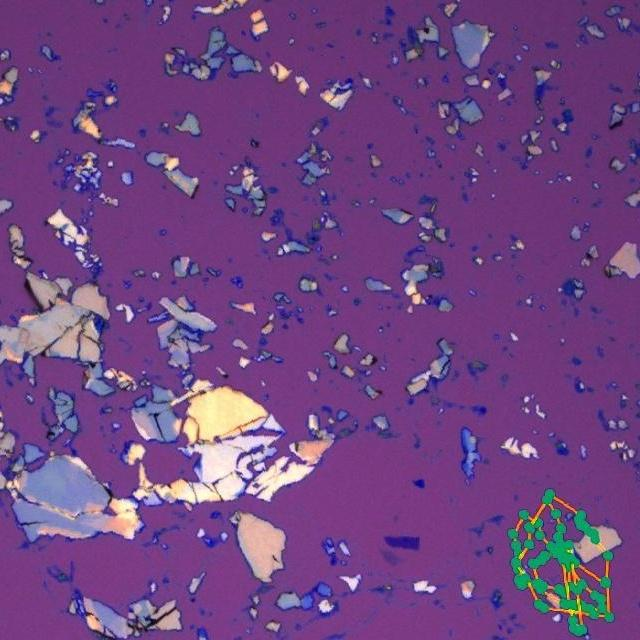monolayer-eWW4: (380, 549, 400, 567)
